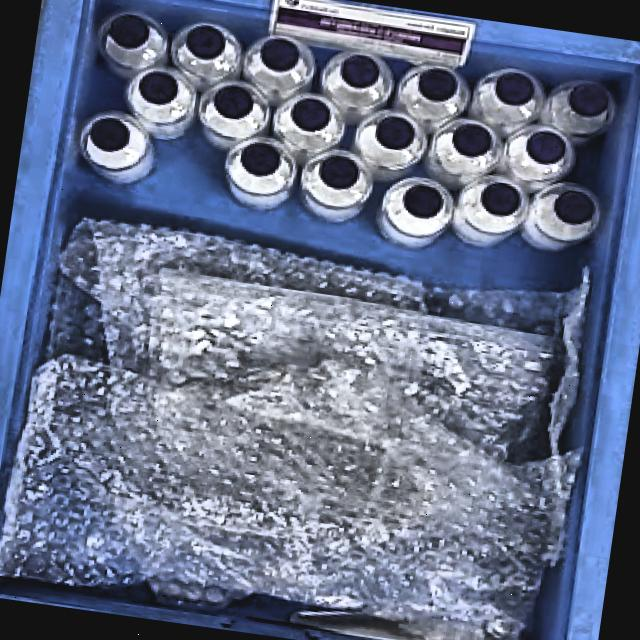vial: (179, 24, 231, 62), (104, 10, 151, 52), (552, 189, 600, 230), (237, 140, 286, 180), (490, 70, 541, 108), (371, 113, 417, 155), (522, 129, 572, 167), (414, 66, 462, 105), (449, 121, 495, 161), (258, 37, 304, 77), (475, 181, 523, 219), (288, 94, 332, 134), (210, 84, 256, 122), (338, 53, 382, 92), (316, 154, 361, 192), (136, 69, 180, 107), (568, 83, 610, 121), (400, 184, 445, 219), (87, 118, 130, 154)
